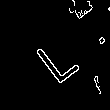L_NW: (28, 26, 82, 84)
